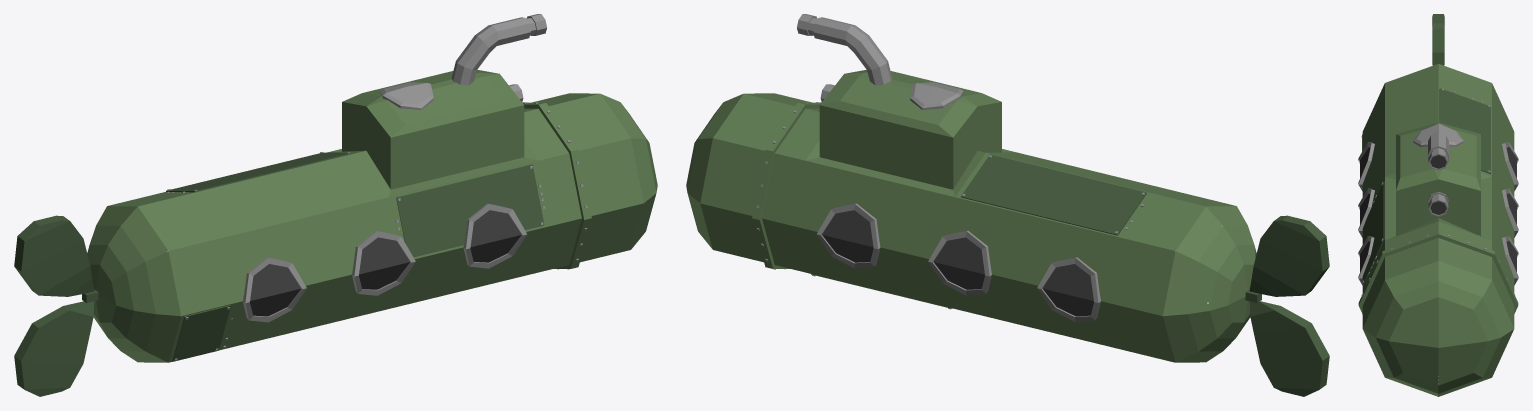
File: GreenSubmarine.fbx
3 views of the same model, side by side, from view 1: azimuth 30°, elevation 25°; view 2: azimuth 150°, elevation 25°; view 3: azimuth 270°, elevation 25° (orthographic). The views are drawn at different scales.
Visible parts, largest first — view 1: GreenSubmarine, GreenSubmarinePropeller, GreenSubmarinePeriscope; view 2: GreenSubmarine, GreenSubmarinePropeller, GreenSubmarinePeriscope; view 3: GreenSubmarine, GreenSubmarinePeriscope, GreenSubmarinePropeller.
Boxes of the visible parts, x1,y1,x2,y2 form: GreenSubmarine: (87, 69, 657, 362); GreenSubmarinePropeller: (14, 215, 98, 396); GreenSubmarinePeriscope: (451, 14, 546, 85); GreenSubmarine: (686, 69, 1256, 362); GreenSubmarinePropeller: (1245, 215, 1329, 396); GreenSubmarinePeriscope: (797, 14, 892, 85); GreenSubmarine: (1358, 64, 1518, 396); GreenSubmarinePeriscope: (1428, 132, 1448, 170); GreenSubmarinePropeller: (1432, 14, 1444, 65).
Size of the model in its own units: 2324 by 914 by 589.
